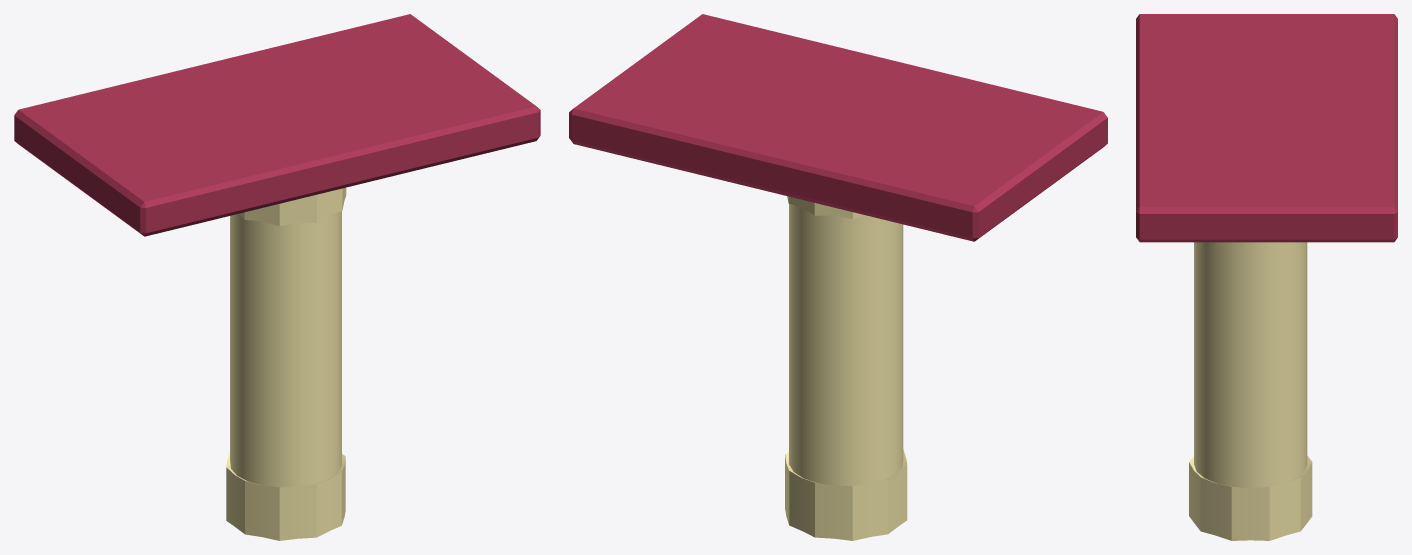
File: SM_house_7.fbx
3 views of the same model, side by side, from view 1: azimuth 30°, elevation 25°; view 2: azimuth 150°, elevation 25°; view 3: azimuth 270°, elevation 25° (orthographic). The views are drawn at different scales.
Visible parts, largest first — view 1: SM_house_5; view 2: SM_house_5; view 3: SM_house_5.
Boxes of the visible parts, x1,y1,x2,y2 form: SM_house_5: [14, 14, 540, 540]; SM_house_5: [569, 14, 1107, 540]; SM_house_5: [1136, 14, 1397, 540].
Size of the model in its own units: 512 by 913 by 874.
